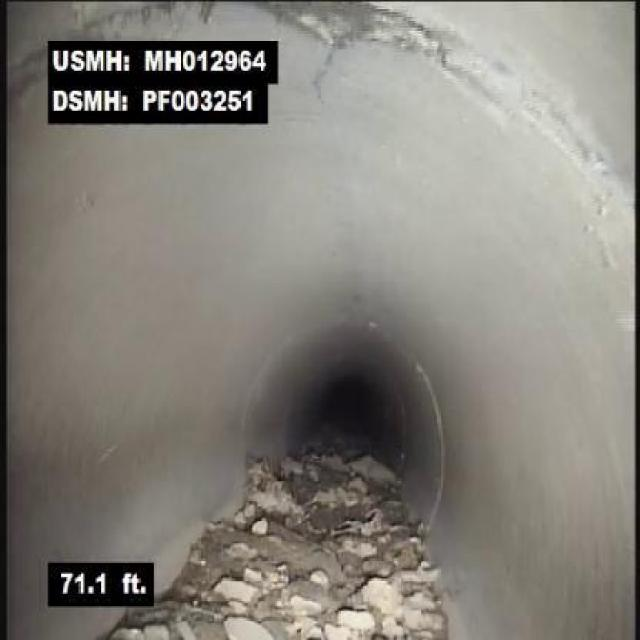Crack: (308, 46, 340, 106)
Obstacle: (156, 432, 310, 638), (312, 444, 452, 638)
